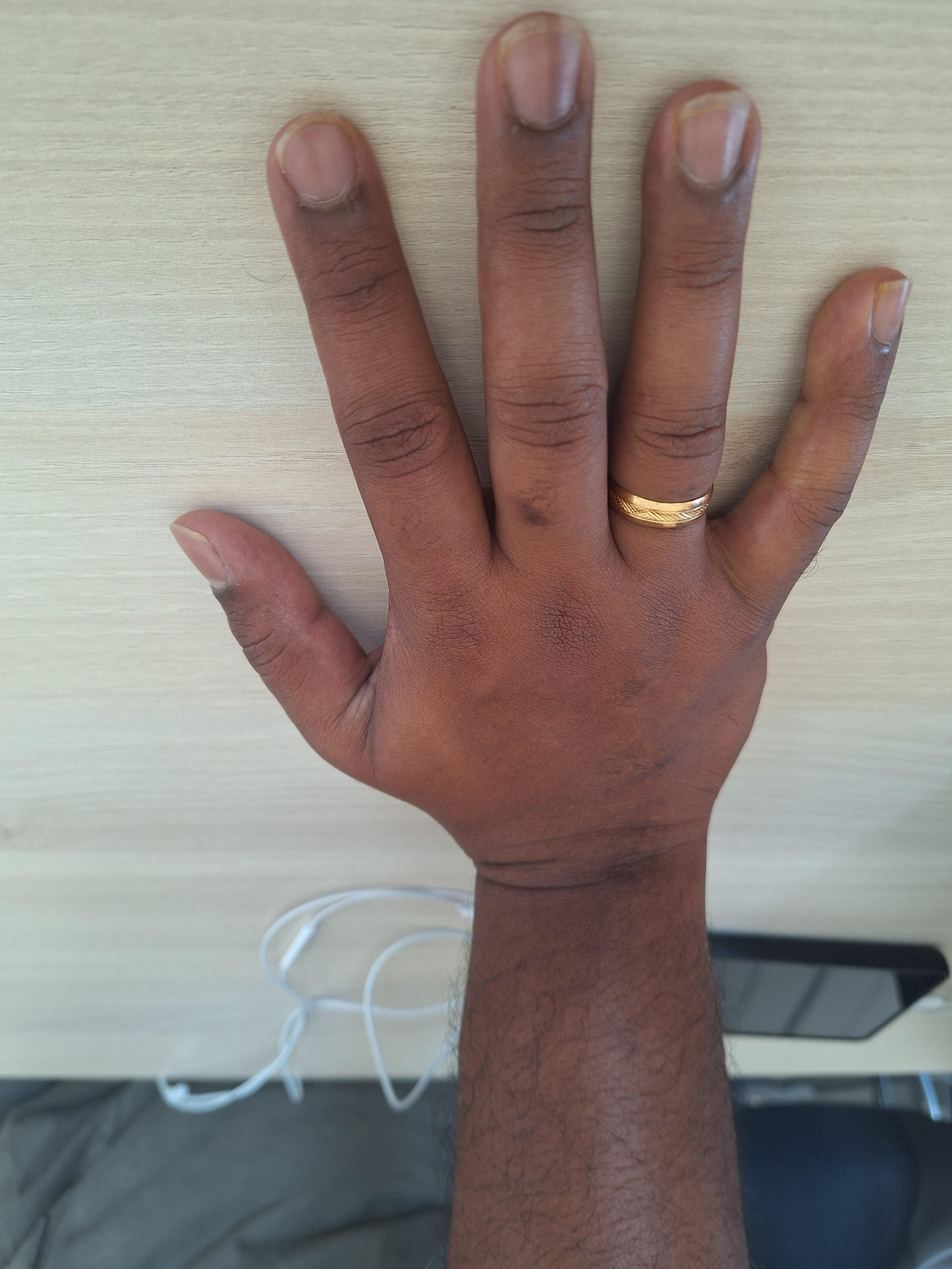Fingernail: (499, 16, 583, 126), (276, 113, 356, 202), (678, 91, 751, 186), (170, 525, 227, 587), (872, 279, 913, 345)
